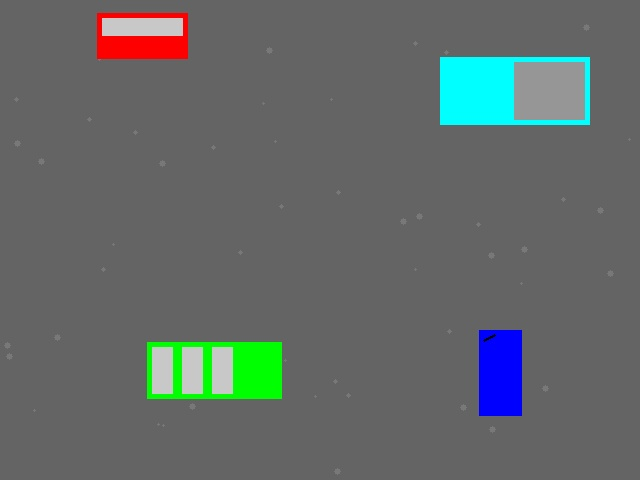bus: (147, 342, 281, 398)
car: (97, 13, 187, 58)
motorcycle: (479, 330, 521, 415)
truck: (440, 57, 589, 124)
